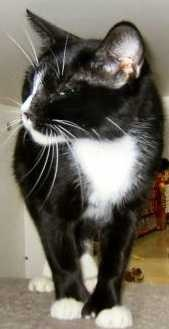Cat: (13, 9, 163, 272)
